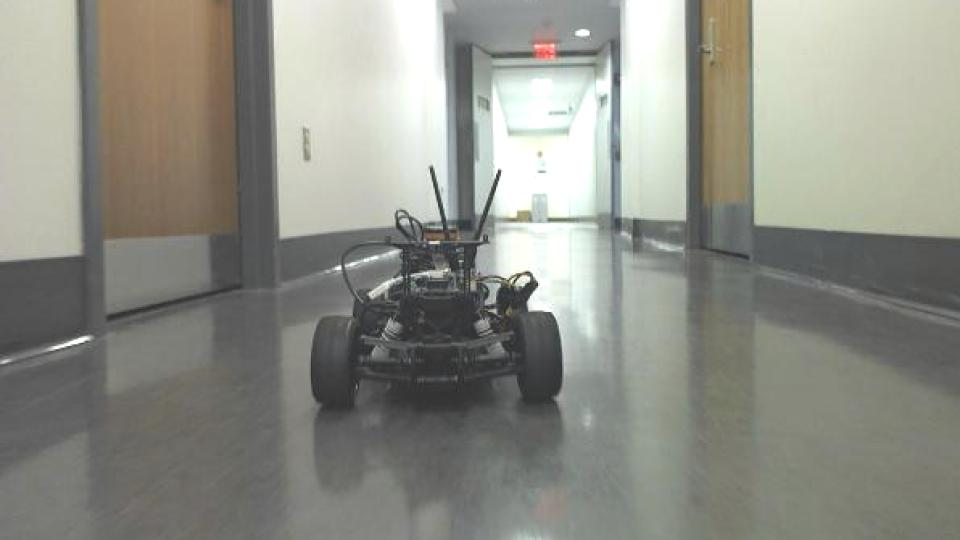car: (306, 164, 565, 412)
